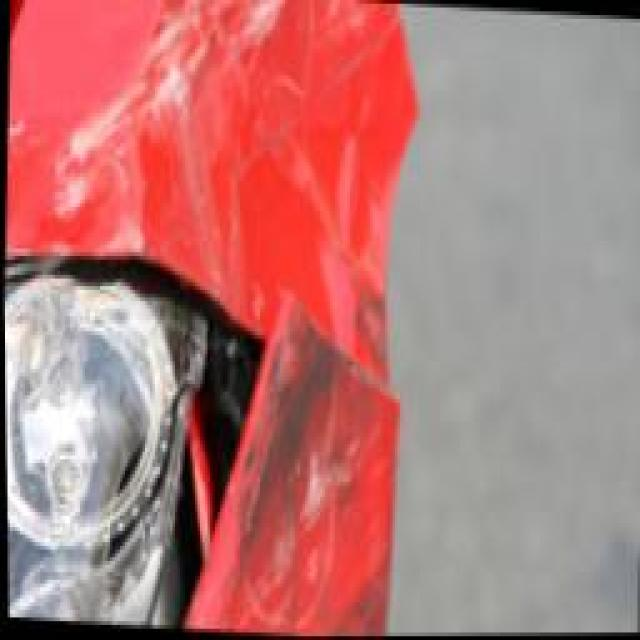Bumper: (208, 312, 401, 638)
Fender: (0, 0, 419, 328)
Light: (2, 271, 237, 631)
